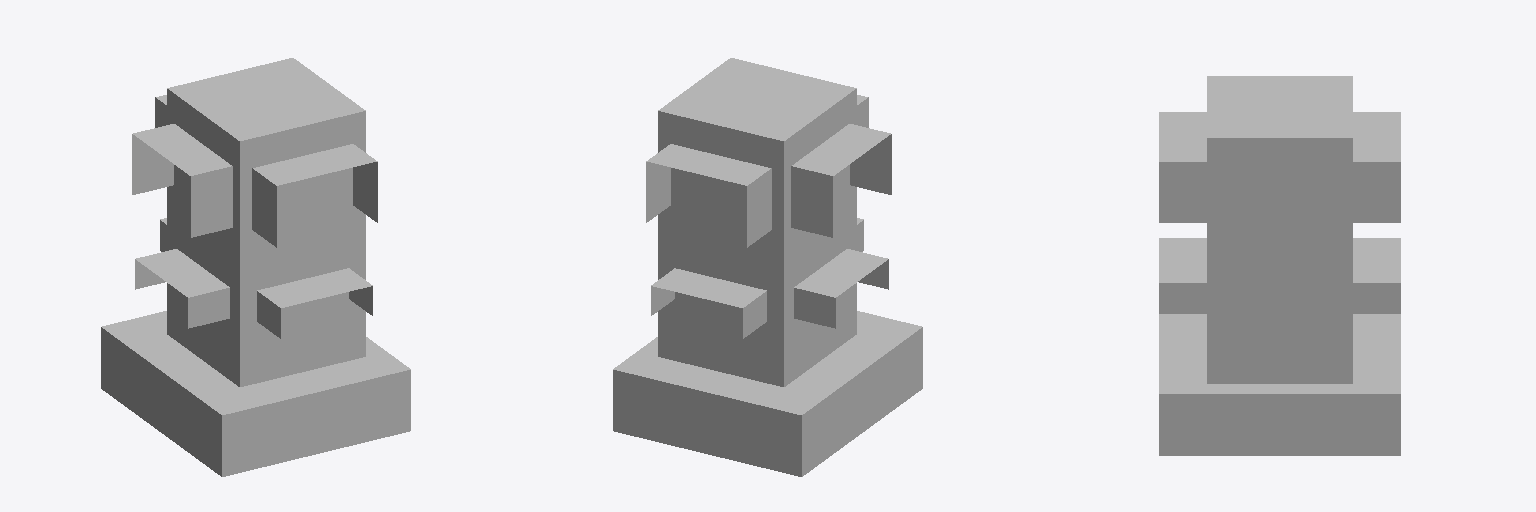
Rendered from wallJunktion.obj.
3 views of the same model, side by side, from view 1: azimuth 30°, elevation 25°; view 2: azimuth 150°, elevation 25°; view 3: azimuth 270°, elevation 25° (orthographic).
Parts seen in each view (by area): view 1: mesh01; view 2: mesh01; view 3: mesh01.
Boxes of the visible parts, x1,y1,x2,y2 form: mesh01: [101, 58, 410, 476]; mesh01: [613, 58, 922, 476]; mesh01: [1159, 76, 1400, 455].
Bounding box in the file's own units: 0.9001 × 1.4 × 1.